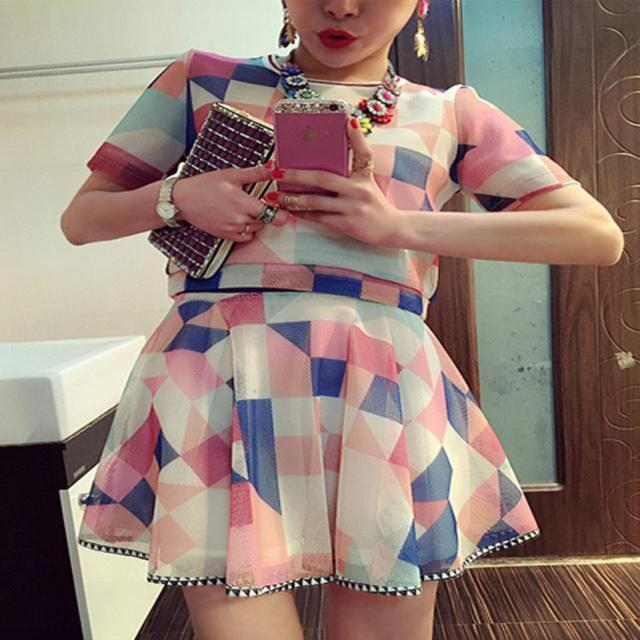short sleeve top: (85, 52, 573, 318)
skirt: (78, 268, 541, 588)
